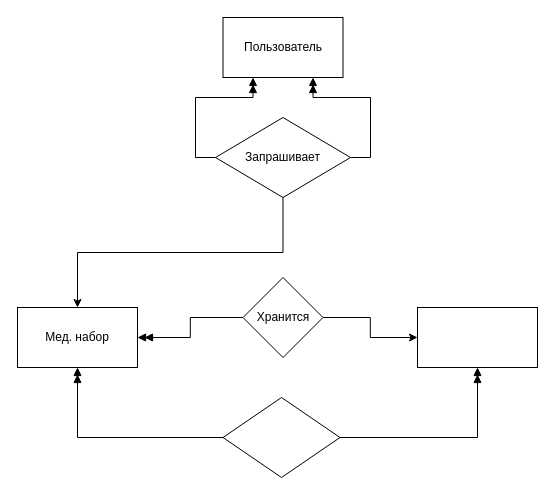
Some shapes in this 555 by 495 pixel diagram are drawn without their labels. Here are the shapes that lost their labels. From the top down, the box of each, then its label:
(416, 306, 538, 368): Объект
(222, 396, 340, 478): Перемещение
